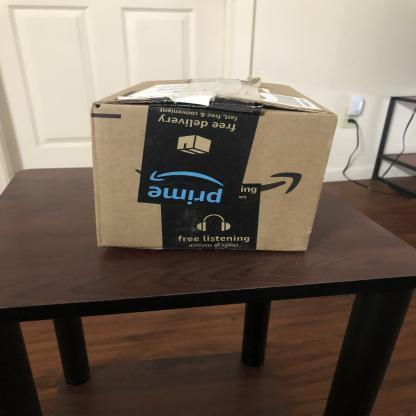package: (82, 78, 342, 257)
